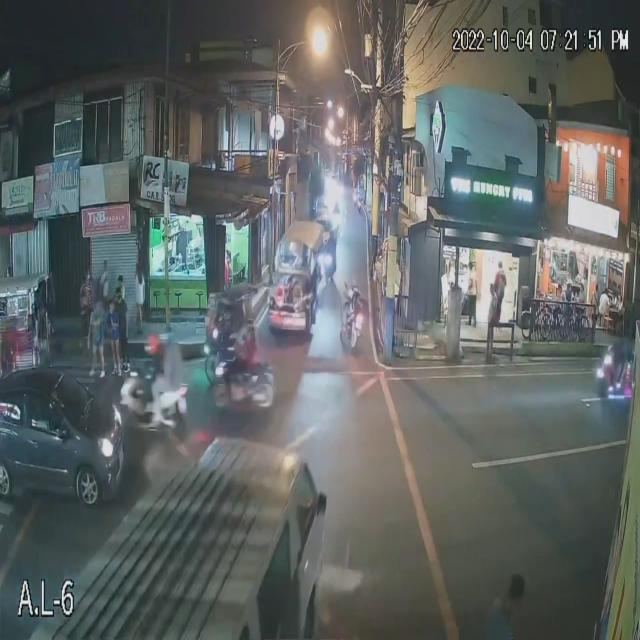Full-Faced: (144, 333, 163, 365), (244, 322, 258, 343)
